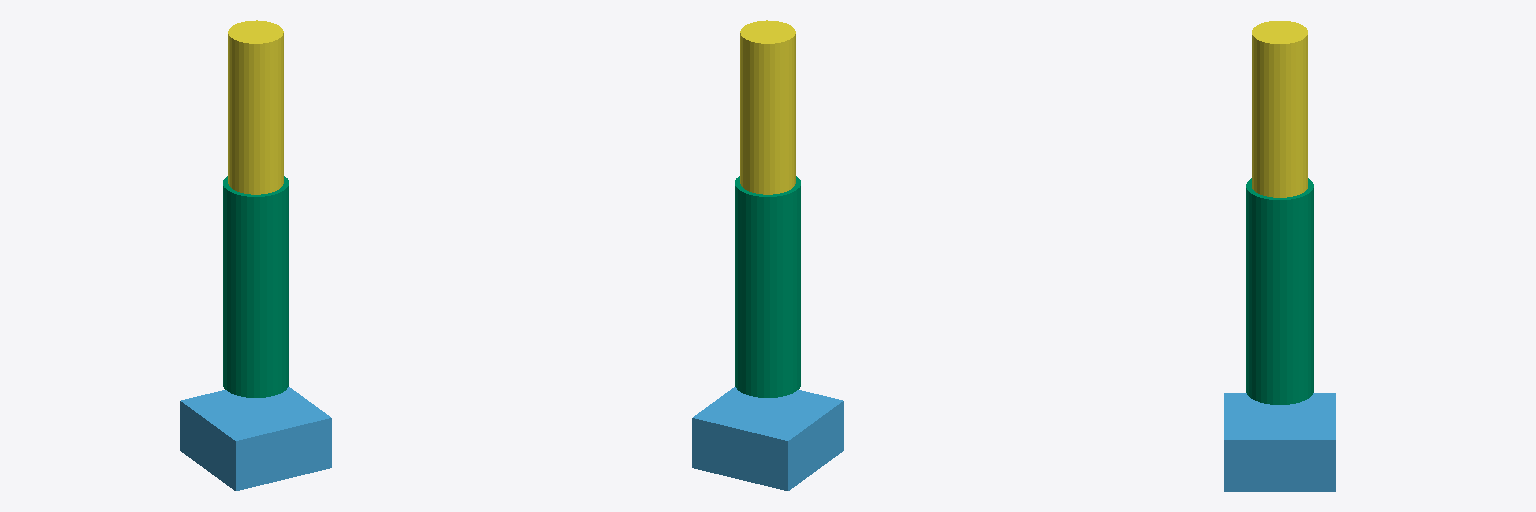
robot.urdf — mycobot_csv_test_two:
<?xml version="1.0"?>
<robot name="mycobot_csv_test_two">

  <link name="world"/>

  <link name="base_link">
    <visual><geometry><box size="0.1 0.1 0.05"/></geometry></visual>
  </link>

  <joint name="base_fixed" type="fixed">
    <parent link="world"/>
    <child  link="base_link"/>
  </joint>

  <link name="link_1">
    <visual><geometry><cylinder length="0.2" radius="0.03"/></geometry>
    <origin xyz="0 0 0.1"/></visual>
  </link>

  <joint name="joint_1" type="continuous">
    <parent link="base_link"/>
    <child  link="link_1"/>
    <origin xyz="0 0 0.05" rpy="0 0 0"/>
    <axis xyz="0 0 1"/>
    <limit effort="100" velocity="2.0"/>
  </joint>

  <link name="link_2">
    <visual><geometry><cylinder length="0.15" radius="0.025"/></geometry>
    <origin xyz="0 0 0.075"/></visual>
  </link>

  <joint name="joint_2" type="continuous">
    <parent link="link_1"/>
    <child  link="link_2"/>
    <origin xyz="0 0 0.2" rpy="0 0 0"/>
    <axis xyz="0 1 0"/>
    <limit effort="100" velocity="2.0"/>
  </joint>

  <ros2_control name="MyCobotCSVTwoJoints" type="system">

    <hardware>
      <plugin>mycobot_csv/MyCobotCSV</plugin>
      <param name="ifname">enx00e04c360d9d</param>
    </hardware>

    <joint name="joint_1">
      <param name="slave_index">1</param>
      <param name="counts_per_rad">2085932.0</param>
      <command_interface name="velocity">
        <param name="min">-2.0</param>
        <param name="max"> 2.0</param>
      </command_interface>
      <state_interface name="position"/>
      <state_interface name="velocity"/>
    </joint>

    <joint name="joint_2">
      <param name="slave_index">2</param>
      <param name="counts_per_rad">2085932.0</param>
      <command_interface name="velocity">
        <param name="min">-2.0</param>
        <param name="max"> 2.0</param>
      </command_interface>
      <state_interface name="position"/>
      <state_interface name="velocity"/>
    </joint>

  </ros2_control>

</robot>

--- Render facts (derived) ---
Views: 3 orthographic renders of the robot side by side, from view 1: azimuth 30°, elevation 25°; view 2: azimuth 150°, elevation 25°; view 3: azimuth 270°, elevation 25°.
Robot: mycobot_csv_test_two — 4 links, 3 joints (2 continuous, 1 fixed); root link world; default pose: all joints at 0.
Links seen in each view (by area): view 1: link_1, base_link, link_2; view 2: link_1, base_link, link_2; view 3: link_1, base_link, link_2.
Link boxes in pixels (box(x1,y1,x2,y2)): link_1: box(223, 176, 288, 397); base_link: box(180, 387, 331, 490); link_2: box(228, 20, 283, 194); link_1: box(735, 176, 800, 397); base_link: box(692, 387, 843, 490); link_2: box(740, 20, 795, 194); link_1: box(1246, 178, 1313, 404); base_link: box(1224, 393, 1335, 491); link_2: box(1252, 21, 1307, 197).
Bounding box of the posed robot: 0.1 × 0.1 × 0.425 m (x, y, z).
Geometry: primitives only (box / cylinder / sphere), no mesh files.
